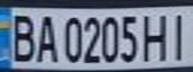0: (60, 12, 81, 64), (100, 12, 121, 64)
2: (81, 12, 103, 64)
5: (118, 11, 142, 63)
A: (33, 11, 60, 63)
B: (3, 10, 39, 63)
H: (139, 10, 172, 62)
I: (166, 9, 193, 61)
